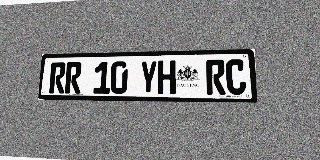0: (110, 61, 128, 94)
1: (93, 61, 111, 94)
C: (226, 59, 246, 95)
H: (158, 60, 176, 94)
R: (206, 59, 226, 95), (65, 62, 82, 94), (49, 62, 66, 93)
Y: (139, 61, 157, 94)
